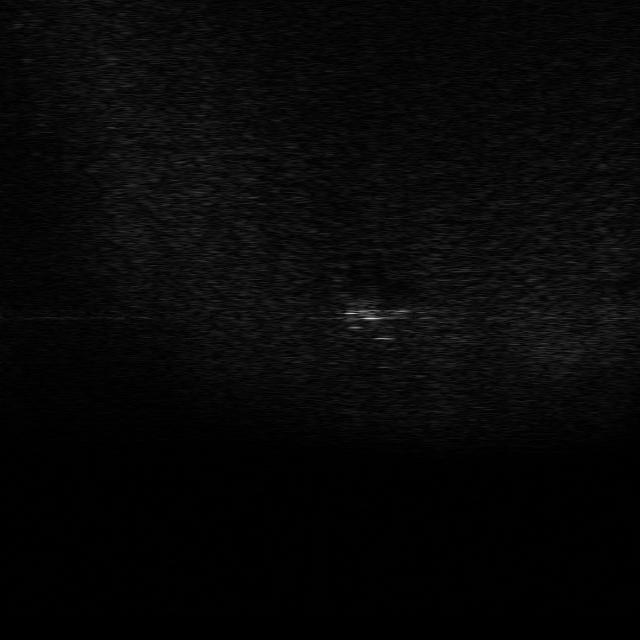plane: (338, 299, 418, 330)
